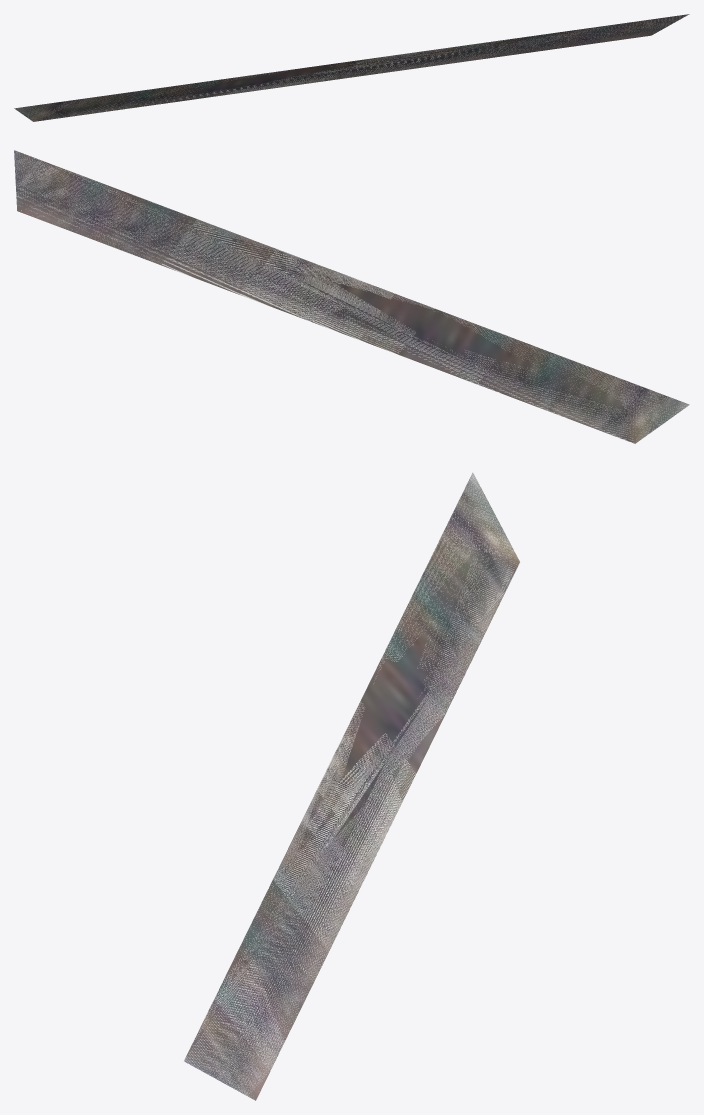
File: 大本钟178.dae
3 renders of one model, top to bottom at view 1: azimuth 30°, elevation 25°; view 2: azimuth 150°, elevation 25°; view 3: azimuth 270°, elevation 25°, orthographic. The views are drawn at different scales.
Parts seen in each view (by area): view 1: SketchUp; view 2: SketchUp; view 3: SketchUp.
Boxes of the visible parts, x1=… form: SketchUp: x1=14, y1=14, x2=689, y2=121; SketchUp: x1=14, y1=150, x2=689, y2=443; SketchUp: x1=184, y1=472, x2=519, y2=1100.
Bounding box in the file's own units: 456 × 110 × 21.54.
Materials: 2 (1 with a texture image).
